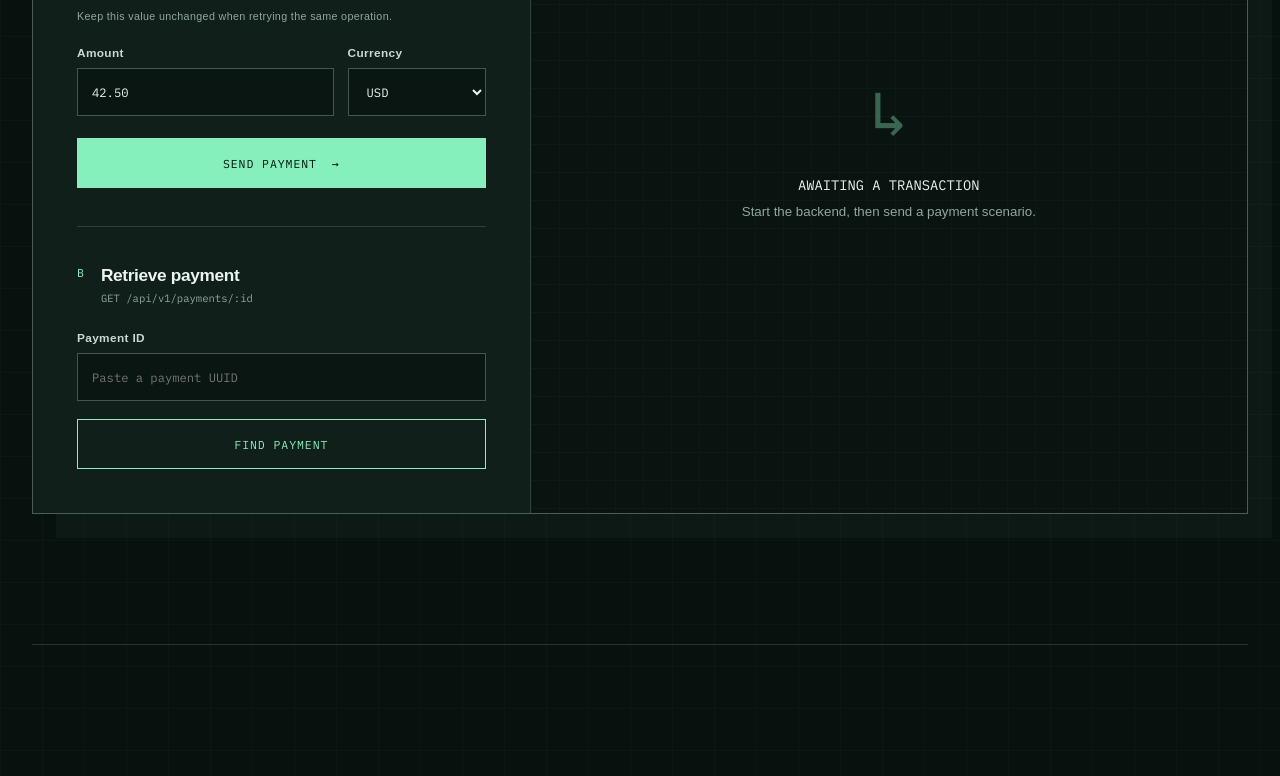
Scenario: Payment Reliability Console › retrieves an existing payment
This screenshot has width=1280, height=776.
(page scrolled)
Type "7c02e8fe-9c21-4e13-81bc-b85185203b19" into the field labelled "Payment ID" at (281, 377), box [77,353,486,401]
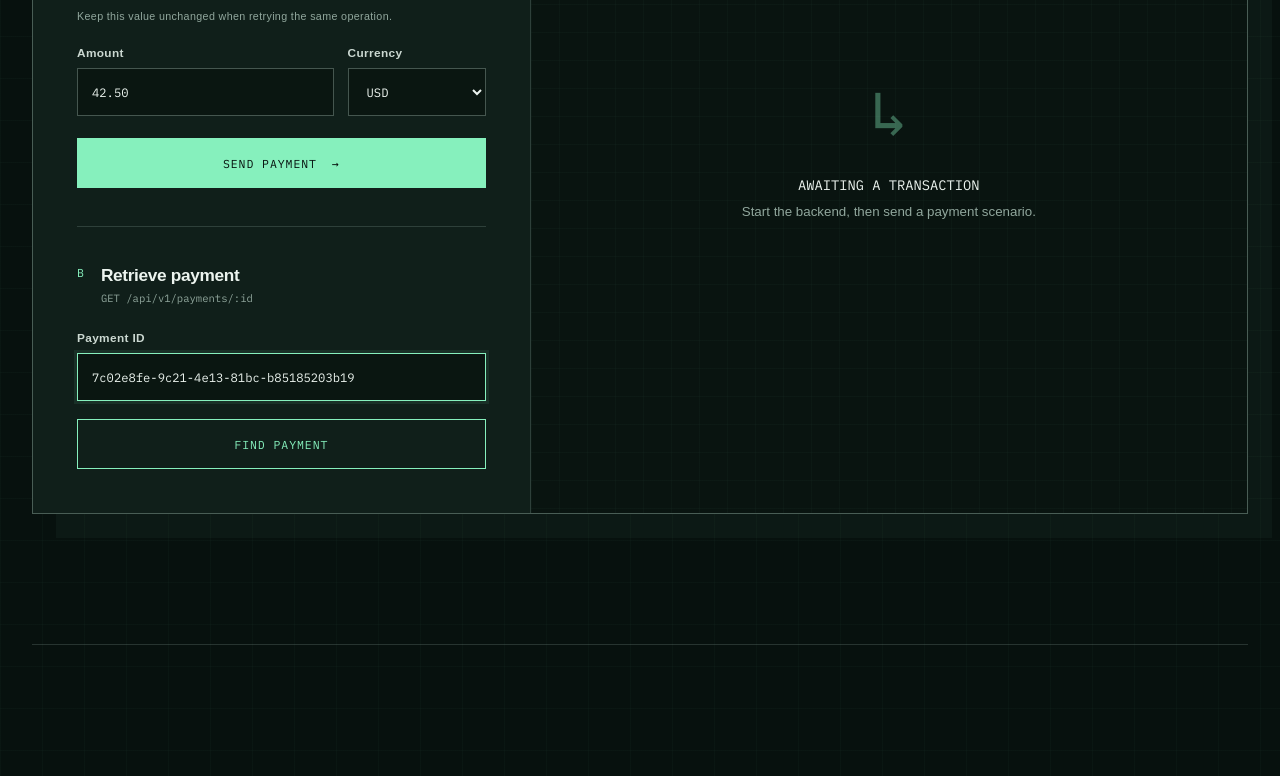
Click the button "Find payment" at (281, 444), box [77,419,486,469]
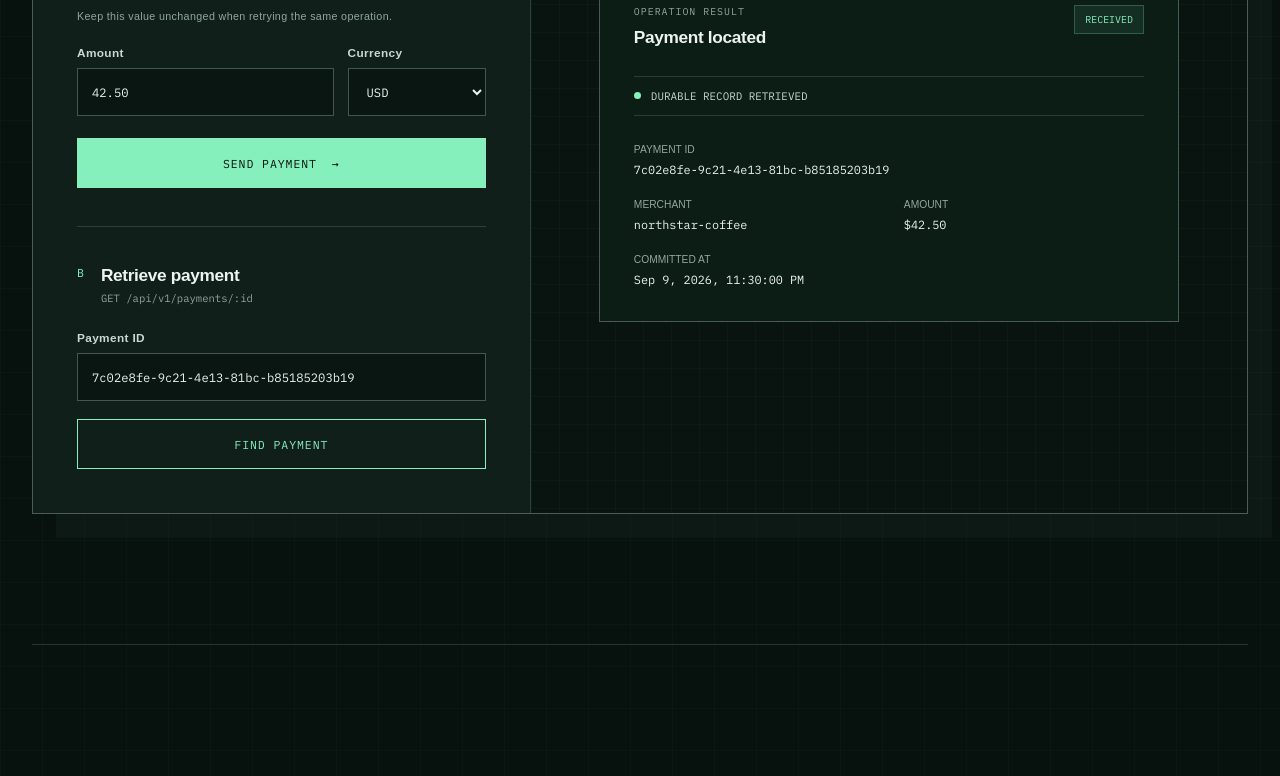
Expected: the heading "Payment located" is shown, [634,27,766,48]
Expected: the text "7c02e8fe-9c21-4e13-81bc-b85185203b19" is shown, [634,162,889,177]
Expected: the text "Durable record retrieved" is shown, [651,89,808,103]
